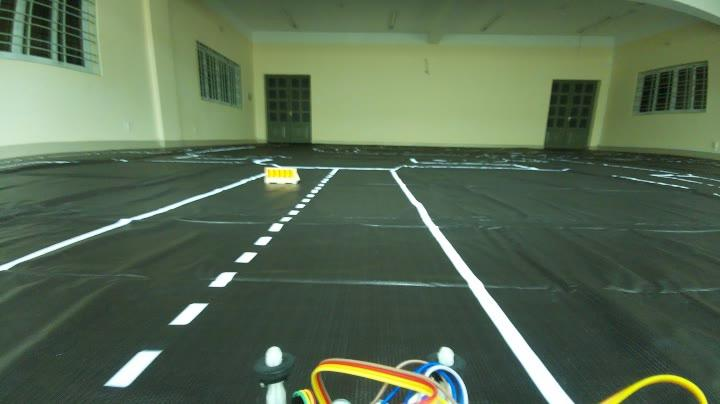roadblock: (258, 164, 308, 190)
